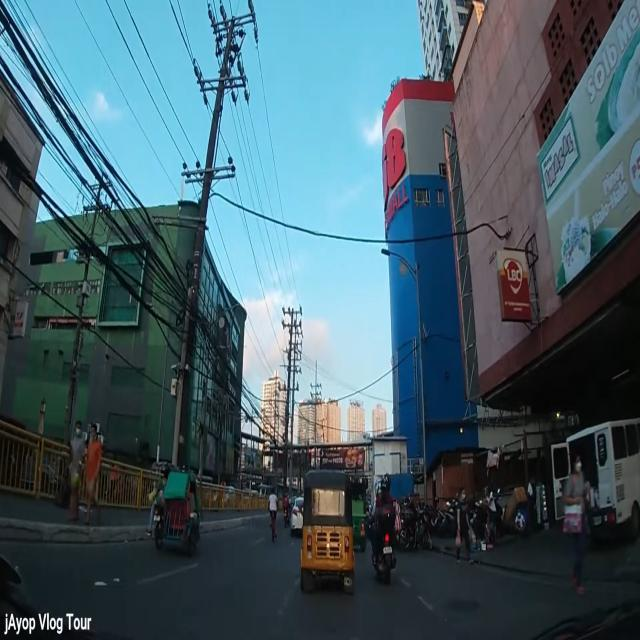bike: (268, 488, 278, 538)
car: (292, 495, 304, 536)
motorcycle: (371, 472, 397, 584), (399, 503, 434, 551), (438, 492, 459, 538), (282, 488, 290, 530)
tricycle: (300, 468, 354, 592), (144, 462, 200, 557), (348, 471, 368, 553)
truck: (550, 416, 640, 542)
